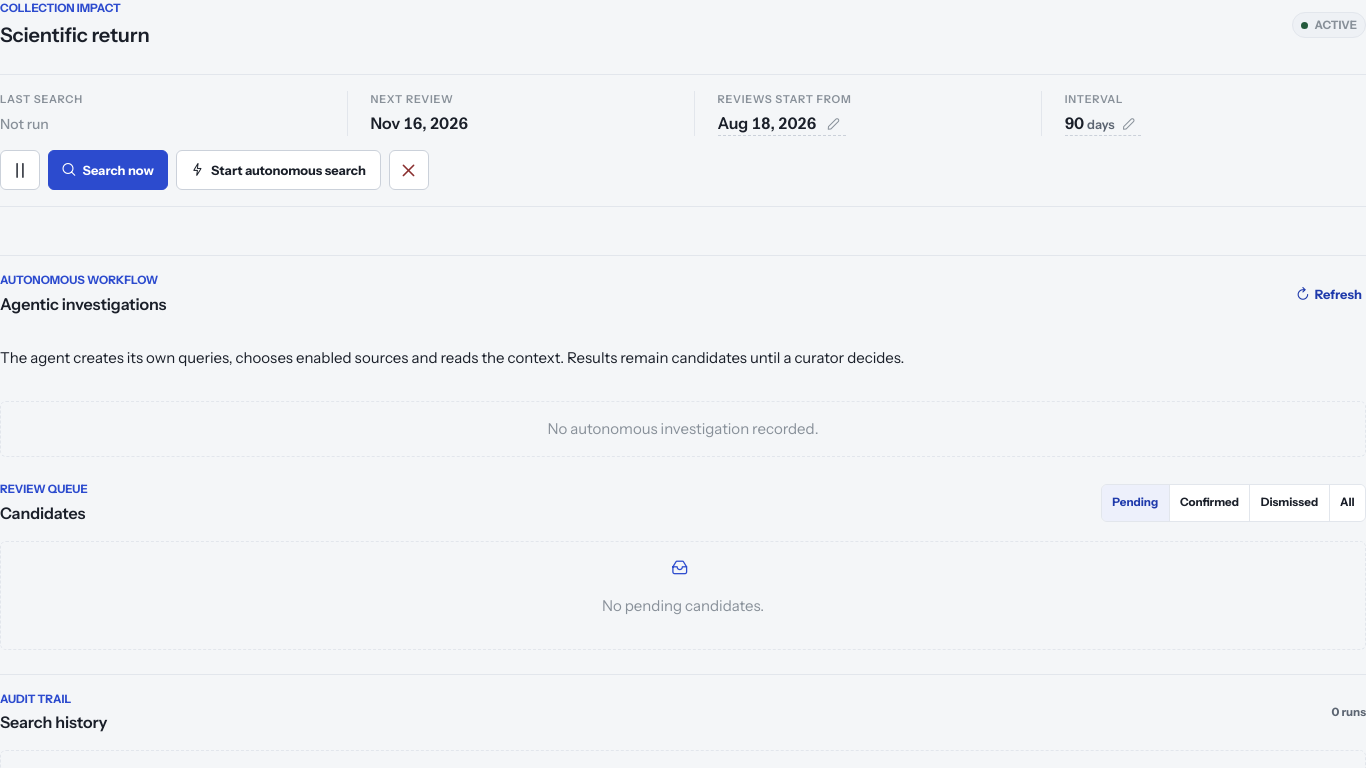
it: ScientificReturnPanelComponent › asks for confirmation instead of closing on the first click
This screenshot has width=1366, height=768.
Click the button named "Close monitoring".
click(408, 170)  # box x1=388 y1=150 x2=428 y2=190
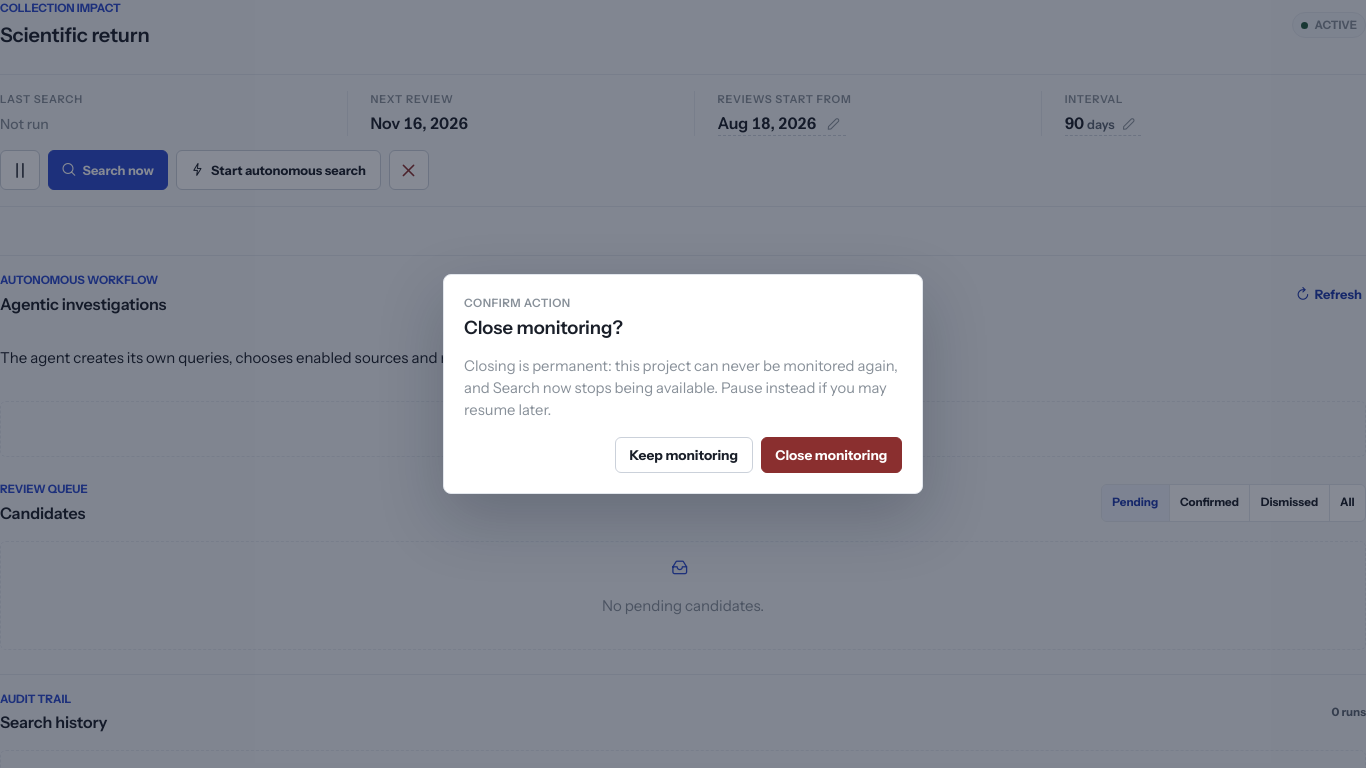
Check: the dialog shows "Close monitoring?", box x1=464 y1=316 x2=623 y2=339
Check: the dialog shows "permanent", box x1=464 y1=357 x2=898 y2=419
